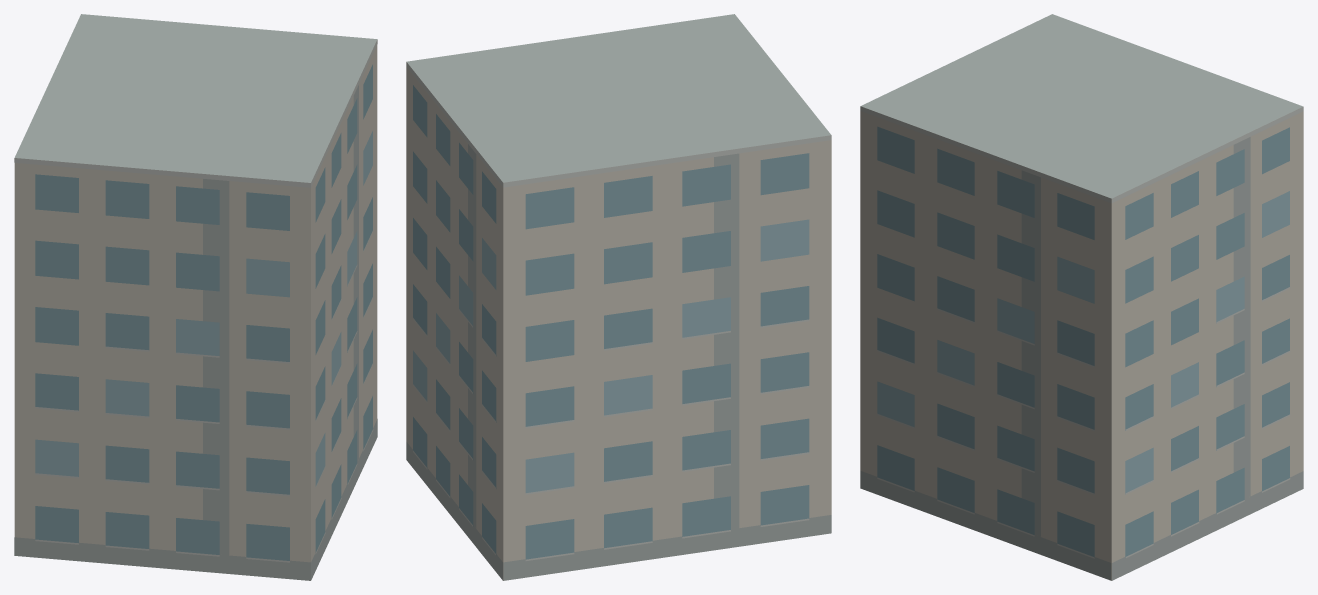
Rendered from survey-upis-32882817.glb.
3 renders of one model, left to right at view 1: azimuth 30°, elevation 25°; view 2: azimuth 150°, elevation 25°; view 3: azimuth 270°, elevation 25°, orthographic. The views are drawn at different scales.
Parts seen in each view (by area): view 1: survey-upis-32882817.tmp; view 2: survey-upis-32882817.tmp; view 3: survey-upis-32882817.tmp.
Boxes of the visible parts, bbox=[...] form: survey-upis-32882817.tmp: bbox=[14, 14, 377, 580]; survey-upis-32882817.tmp: bbox=[406, 14, 831, 580]; survey-upis-32882817.tmp: bbox=[860, 14, 1303, 580].
Bounding box in the file's own units: 20.42 × 19.7 × 20.7.
